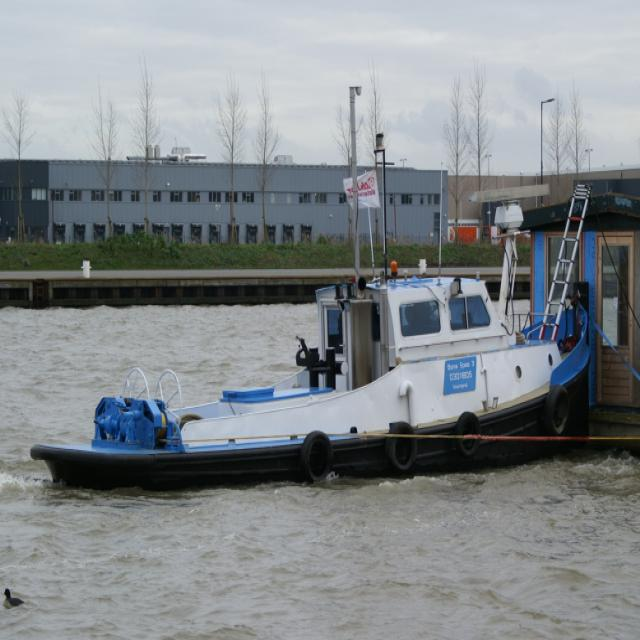tugboat: (28, 131, 607, 505)
